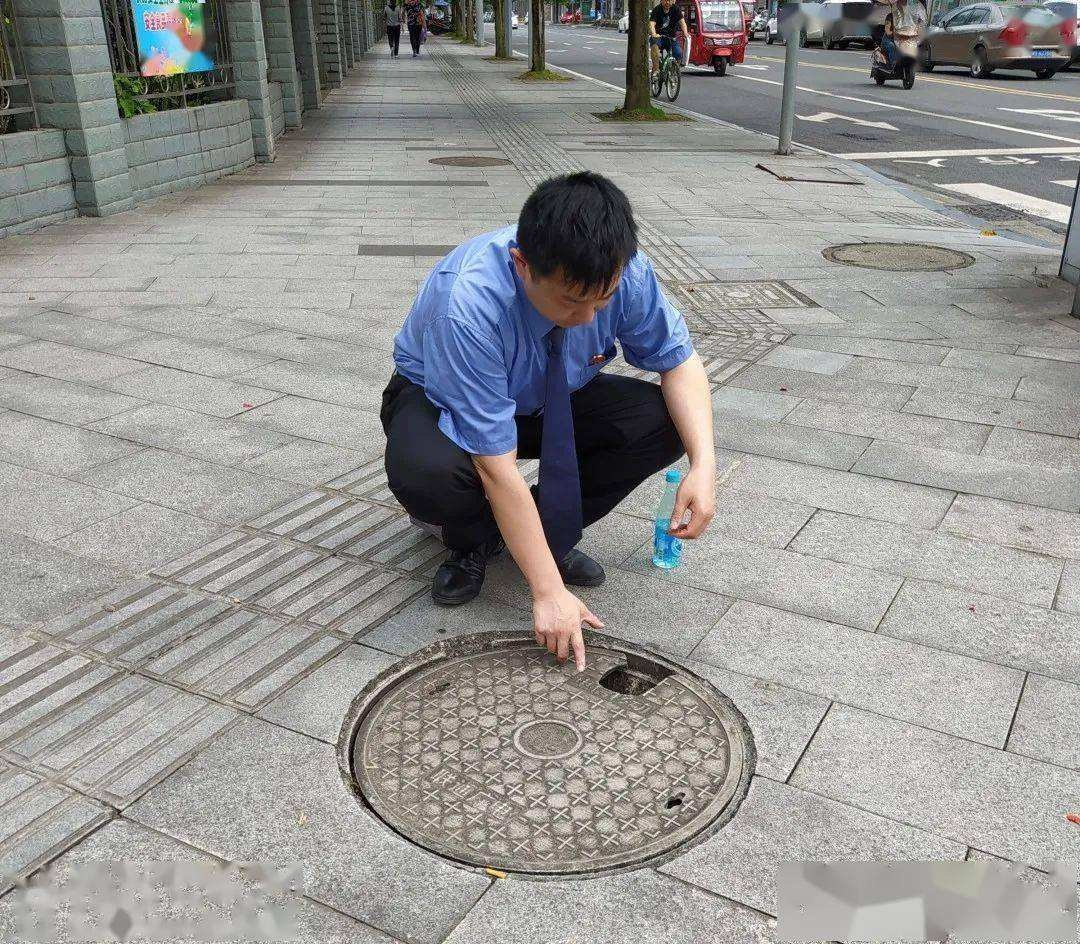well: (338, 626, 749, 876)
